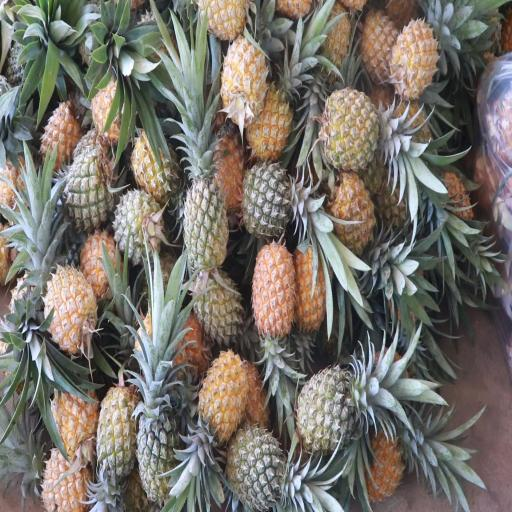------------------------------: (182, 149, 230, 271), (323, 90, 395, 170), (224, 424, 289, 506), (137, 398, 182, 499), (127, 126, 182, 201), (194, 266, 244, 348), (354, 6, 399, 84), (78, 232, 124, 305), (37, 107, 82, 173)
Pineapple - v8 v1: (198, 348, 248, 441), (42, 268, 97, 352), (252, 240, 296, 341), (322, 168, 374, 252), (96, 382, 138, 482), (389, 13, 437, 100), (51, 374, 100, 458), (291, 239, 330, 341), (220, 37, 266, 122), (362, 423, 408, 499), (248, 83, 293, 155)
